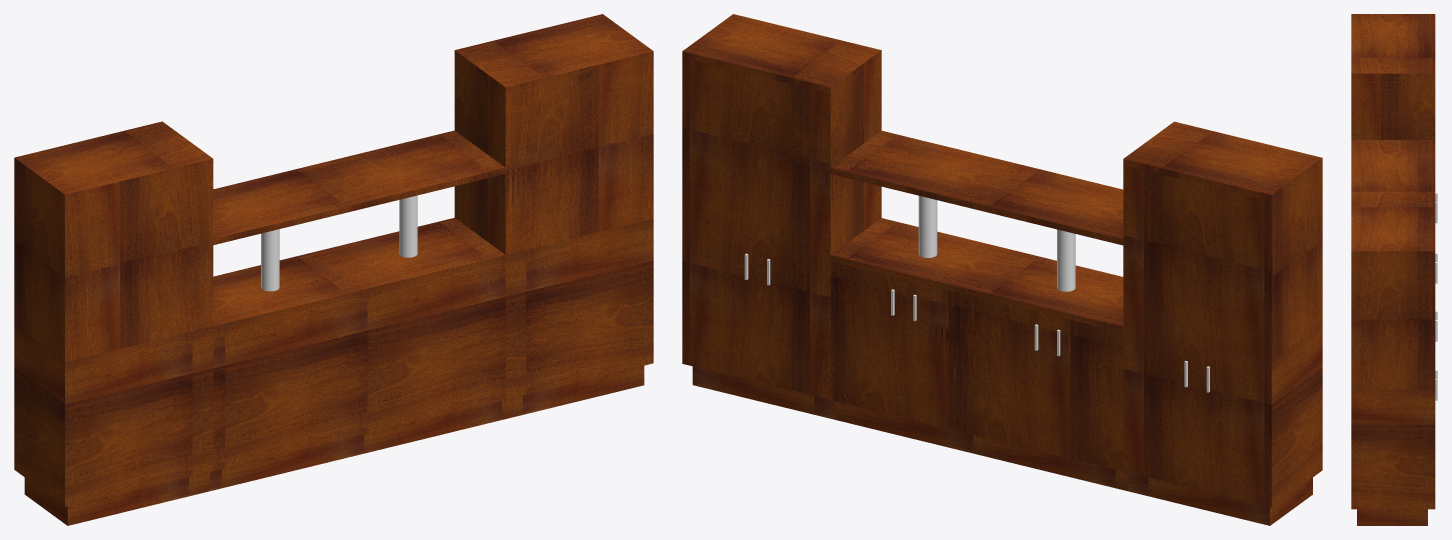
The picture shows the model from 3 angles, left to right: view 1: azimuth 30°, elevation 25°; view 2: azimuth 150°, elevation 25°; view 3: azimuth 270°, elevation 25°; orthographic projection. The views are drawn at different scales.
Visible parts, largest first — view 1: mesh3_mesh3-geometry, mesh5_mesh5-geometry, mesh7_mesh7-geometry, mesh8_mesh8-geometry, mesh24_mesh24-geometry, mesh25_mesh25-geometry; view 2: mesh3_mesh3-geometry, mesh5_mesh5-geometry, mesh7_mesh7-geometry, mesh8_mesh8-geometry, mesh25_mesh25-geometry, mesh24_mesh24-geometry; view 3: mesh5_mesh5-geometry, mesh3_mesh3-geometry, mesh8_mesh8-geometry.
Part boxes in pixels (<box>): mesh3_mesh3-geometry: <box>14,121,213,525</box>; mesh5_mesh5-geometry: <box>454,14,653,419</box>; mesh7_mesh7-geometry: <box>209,217,505,490</box>; mesh8_mesh8-geometry: <box>213,130,505,244</box>; mesh24_mesh24-geometry: <box>261,229,279,291</box>; mesh25_mesh25-geometry: <box>399,195,417,257</box>; mesh3_mesh3-geometry: <box>1123,121,1322,525</box>; mesh5_mesh5-geometry: <box>682,14,881,419</box>; mesh7_mesh7-geometry: <box>830,218,1127,490</box>; mesh8_mesh8-geometry: <box>830,130,1123,245</box>; mesh25_mesh25-geometry: <box>918,196,937,257</box>; mesh24_mesh24-geometry: <box>1057,229,1075,291</box>; mesh5_mesh5-geometry: <box>1351,191,1435,525</box>; mesh3_mesh3-geometry: <box>1351,14,1435,139</box>; mesh8_mesh8-geometry: <box>1351,140,1435,191</box>.
Size of the model in its own units: 0.8705 by 0.4737 by 0.1338.
